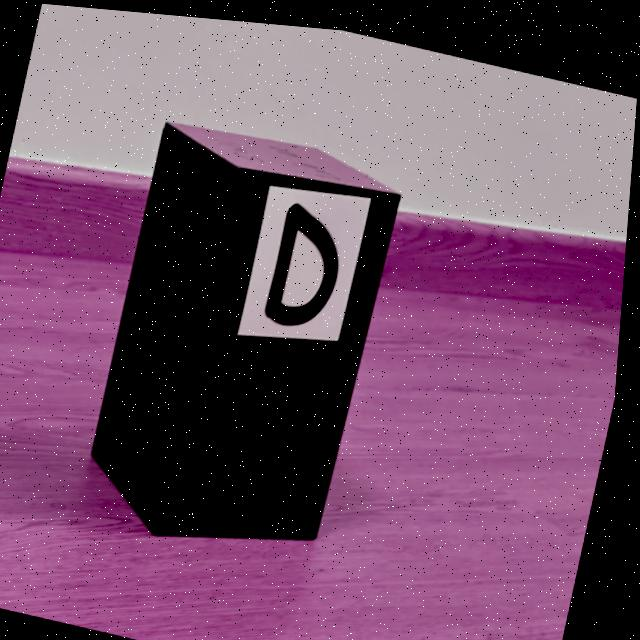D: (269, 197, 342, 320)
